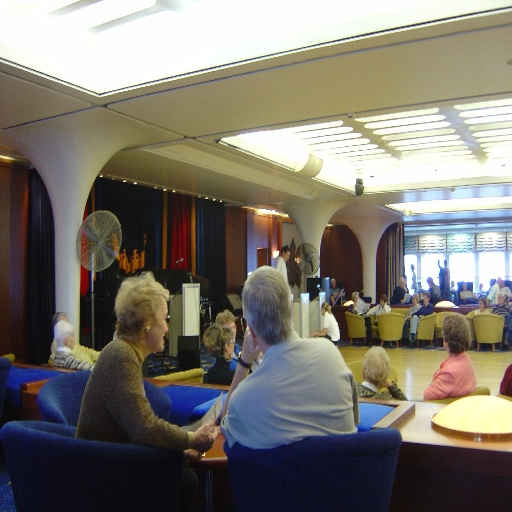hand: (172, 418, 220, 462), (241, 324, 261, 365), (181, 450, 205, 465), (382, 380, 392, 388)
